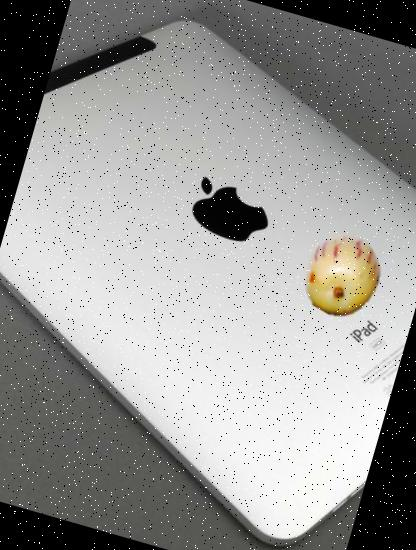Pepino: (291, 224, 394, 327)
